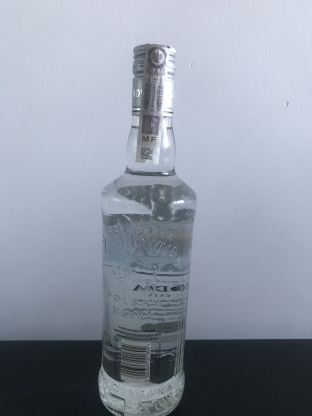nakretka: (129, 39, 178, 121)
